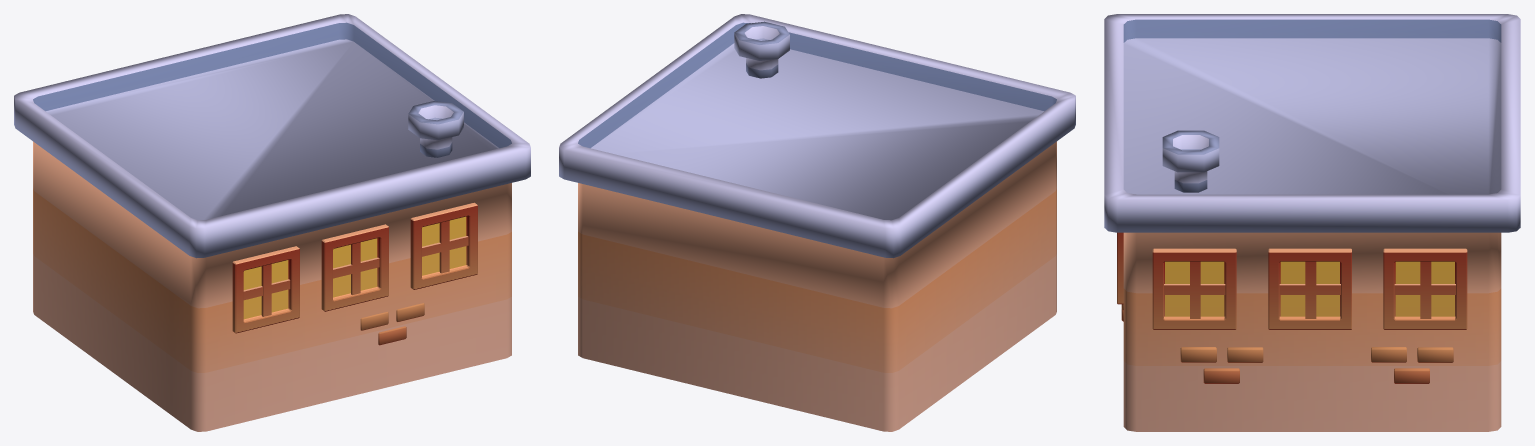
File: BAT1fbx.fbx
3 renders of one model, left to right at view 1: azimuth 30°, elevation 25°; view 2: azimuth 150°, elevation 25°; view 3: azimuth 270°, elevation 25°, orthographic. The views are drawn at different scales.
Parts seen in each view (by area): view 1: Cube.045; view 2: Cube.045; view 3: Cube.045.
Boxes of the visible parts, x1,y1,x2,y2 form: Cube.045: (14,14,530,431); Cube.045: (559,14,1075,431); Cube.045: (1104,14,1520,431).
Size of the model in its own units: 3502 by 2297 by 3312.
